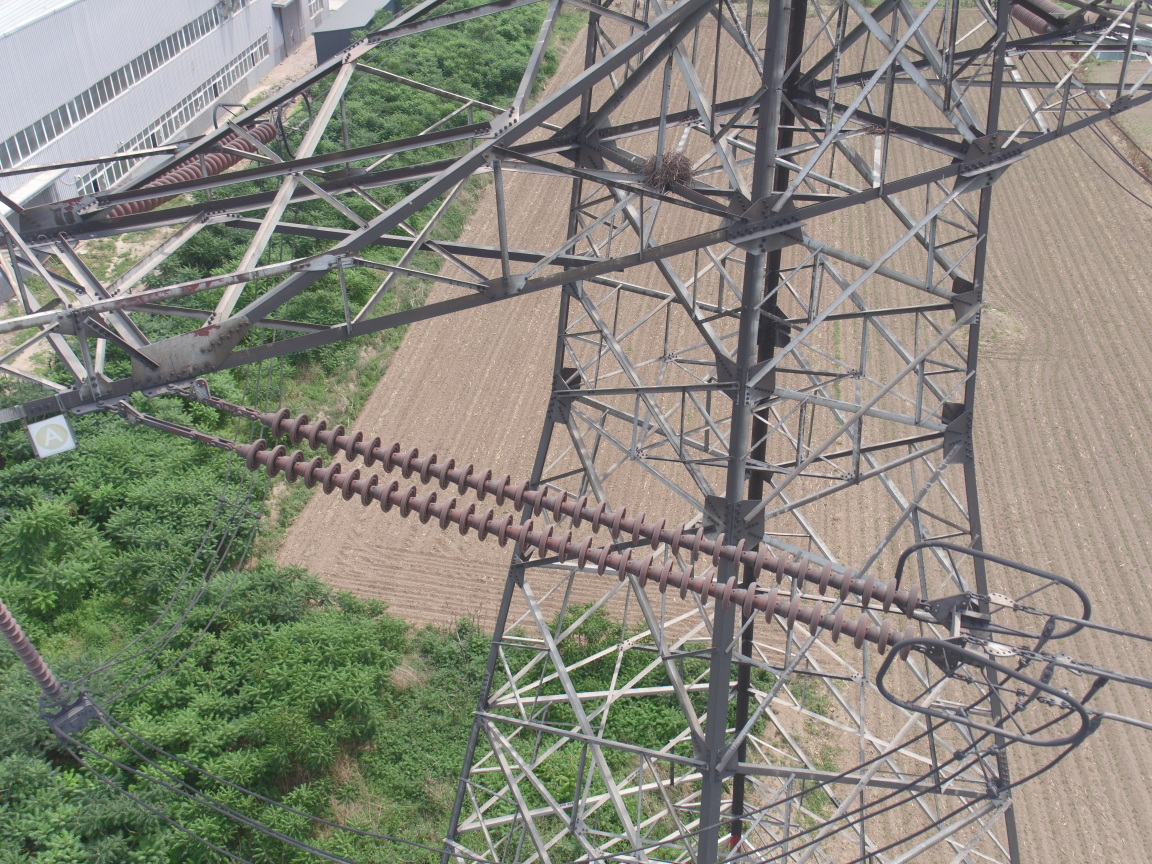insulator: (216, 403, 943, 663)
